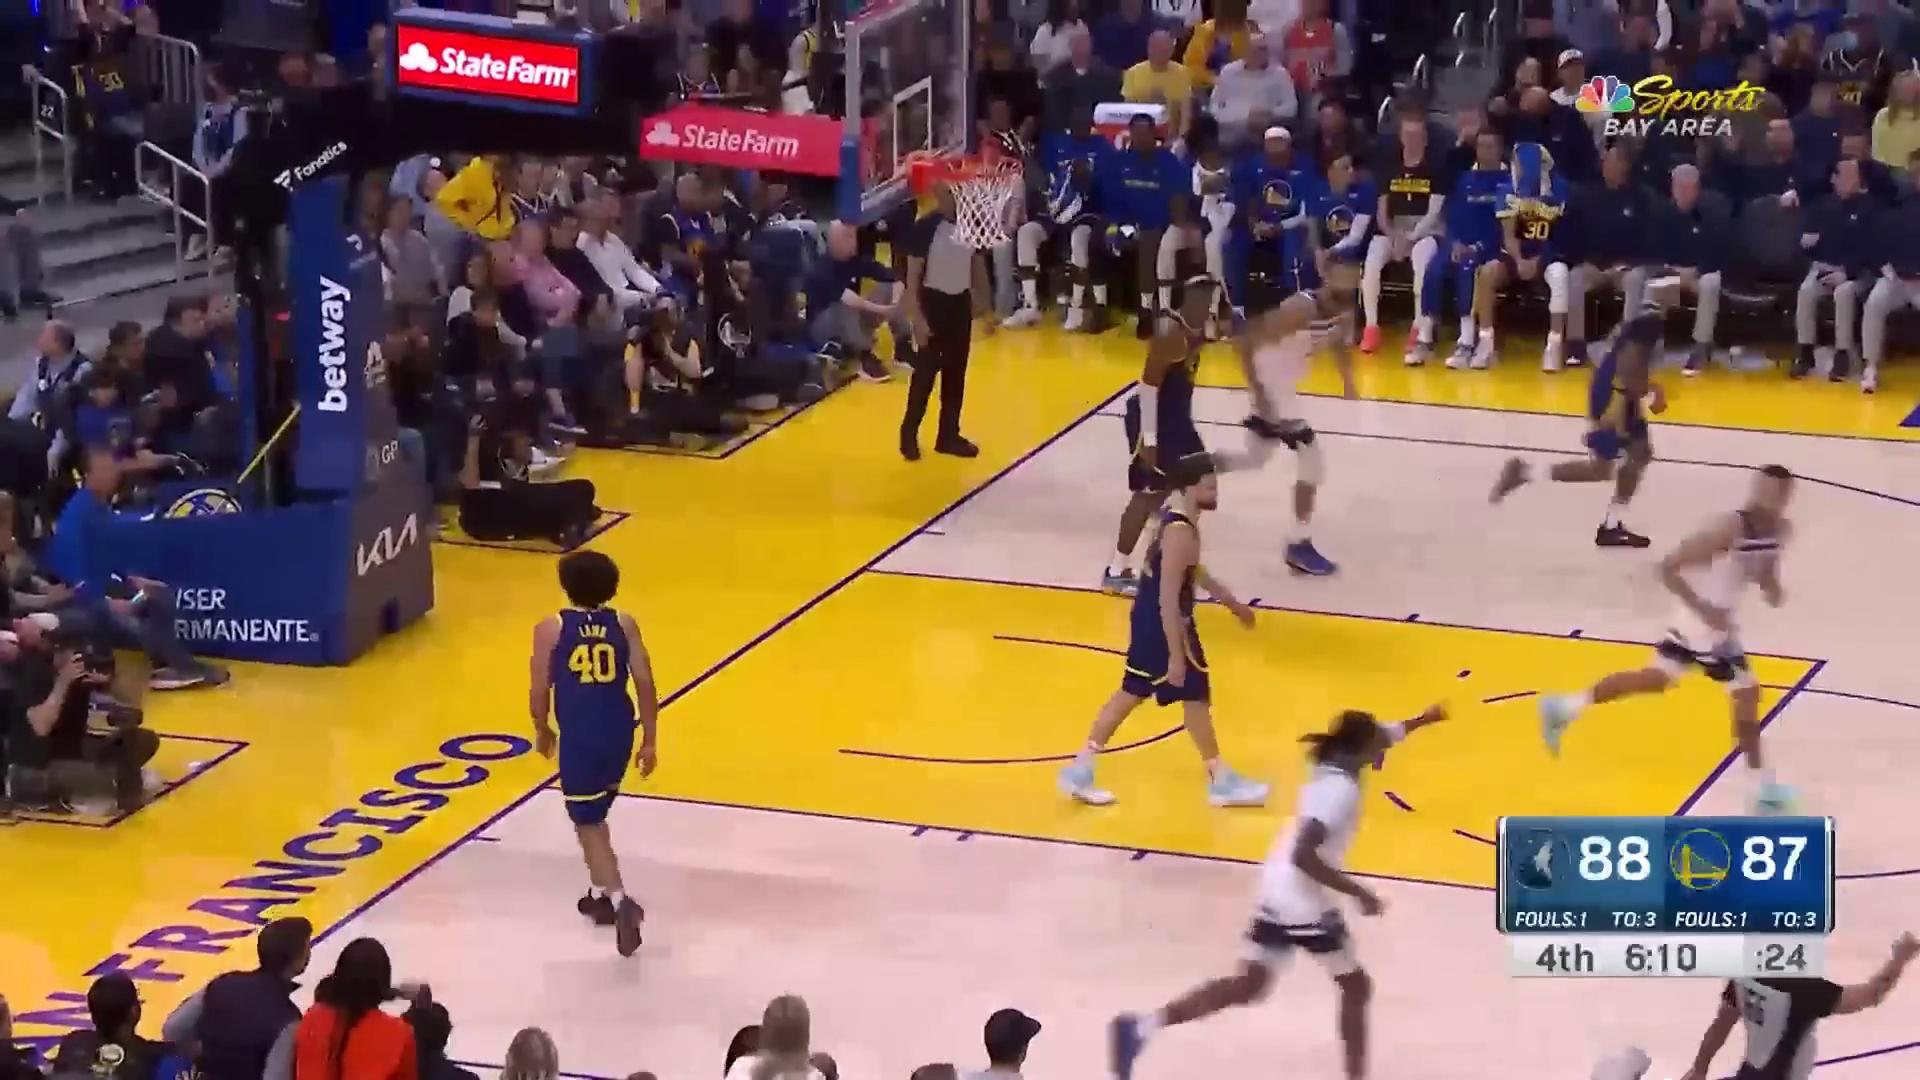Player: (1103, 696, 1461, 1080), (1536, 459, 1808, 816), (1056, 444, 1276, 814), (1169, 249, 1364, 576), (528, 549, 666, 958), (1486, 268, 1686, 549), (1109, 271, 1219, 599)
Rim: (834, 1, 1021, 241)
